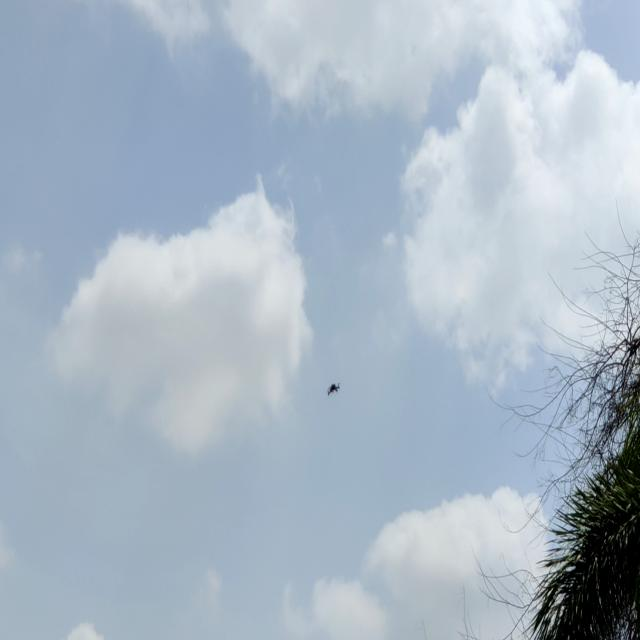drone: (322, 378, 344, 400)
